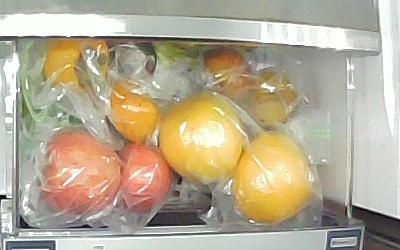apple_vinyl: (42, 128, 121, 213), (117, 144, 172, 213)
grapefruit_vinyl: (158, 93, 240, 184), (232, 133, 314, 223)
persimmon_vinyl: (42, 38, 111, 87), (109, 78, 159, 142)
prune_vinyl: (247, 70, 301, 128), (201, 48, 253, 97)
